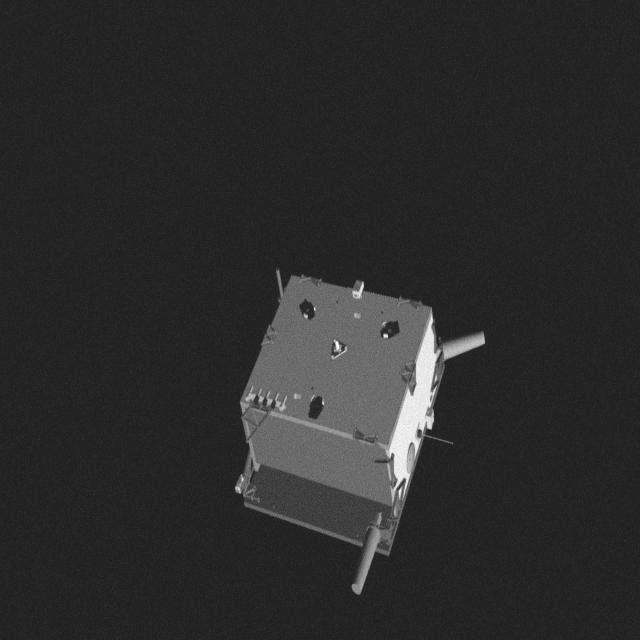medium_debris: (232, 266, 490, 596)
